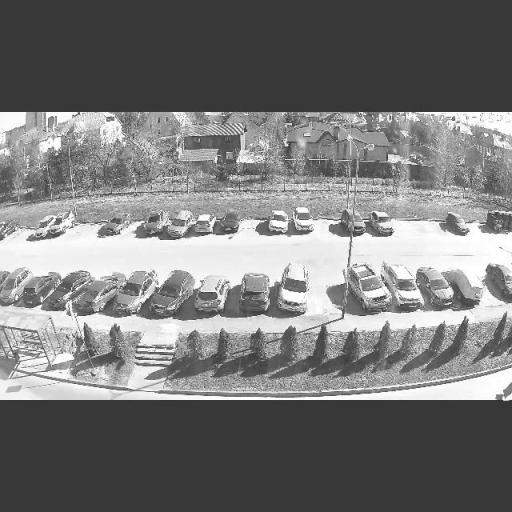busy: (345, 260, 394, 314), (270, 261, 317, 315), (144, 270, 194, 318), (106, 272, 156, 317), (418, 267, 460, 311), (43, 272, 88, 312), (71, 276, 118, 314), (232, 273, 274, 313), (386, 267, 428, 307), (450, 270, 490, 308), (189, 276, 229, 312), (28, 212, 76, 240), (0, 266, 33, 306), (22, 275, 56, 306), (485, 264, 512, 301), (97, 213, 130, 240), (164, 210, 193, 238), (140, 210, 168, 238), (342, 211, 372, 234), (266, 212, 292, 236), (216, 212, 242, 236), (443, 215, 472, 236), (291, 210, 317, 232), (491, 376, 512, 400), (370, 220, 398, 236), (192, 216, 214, 234), (0, 220, 16, 240)
free: (310, 286, 343, 312), (480, 275, 501, 307), (68, 217, 92, 239), (430, 212, 447, 239), (316, 214, 338, 234), (242, 216, 265, 235), (128, 215, 146, 238), (16, 222, 34, 244), (90, 218, 106, 236), (466, 220, 480, 238), (407, 224, 428, 234), (392, 225, 410, 233)
